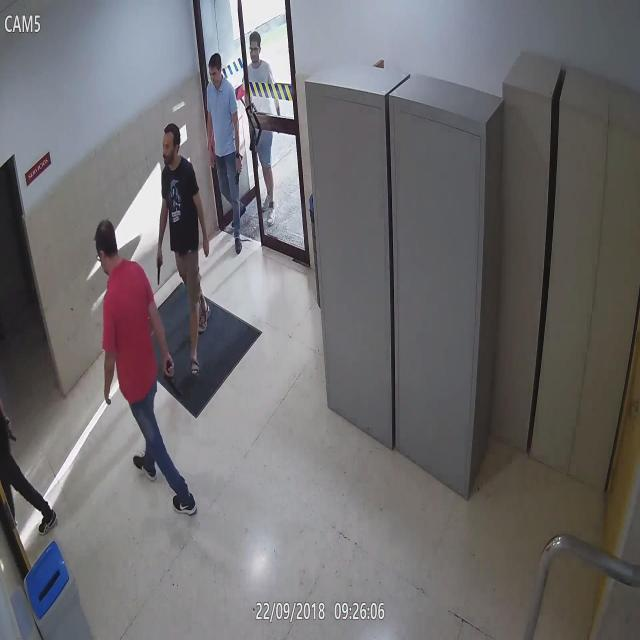pistol: (159, 352, 178, 401), (156, 252, 167, 292)
